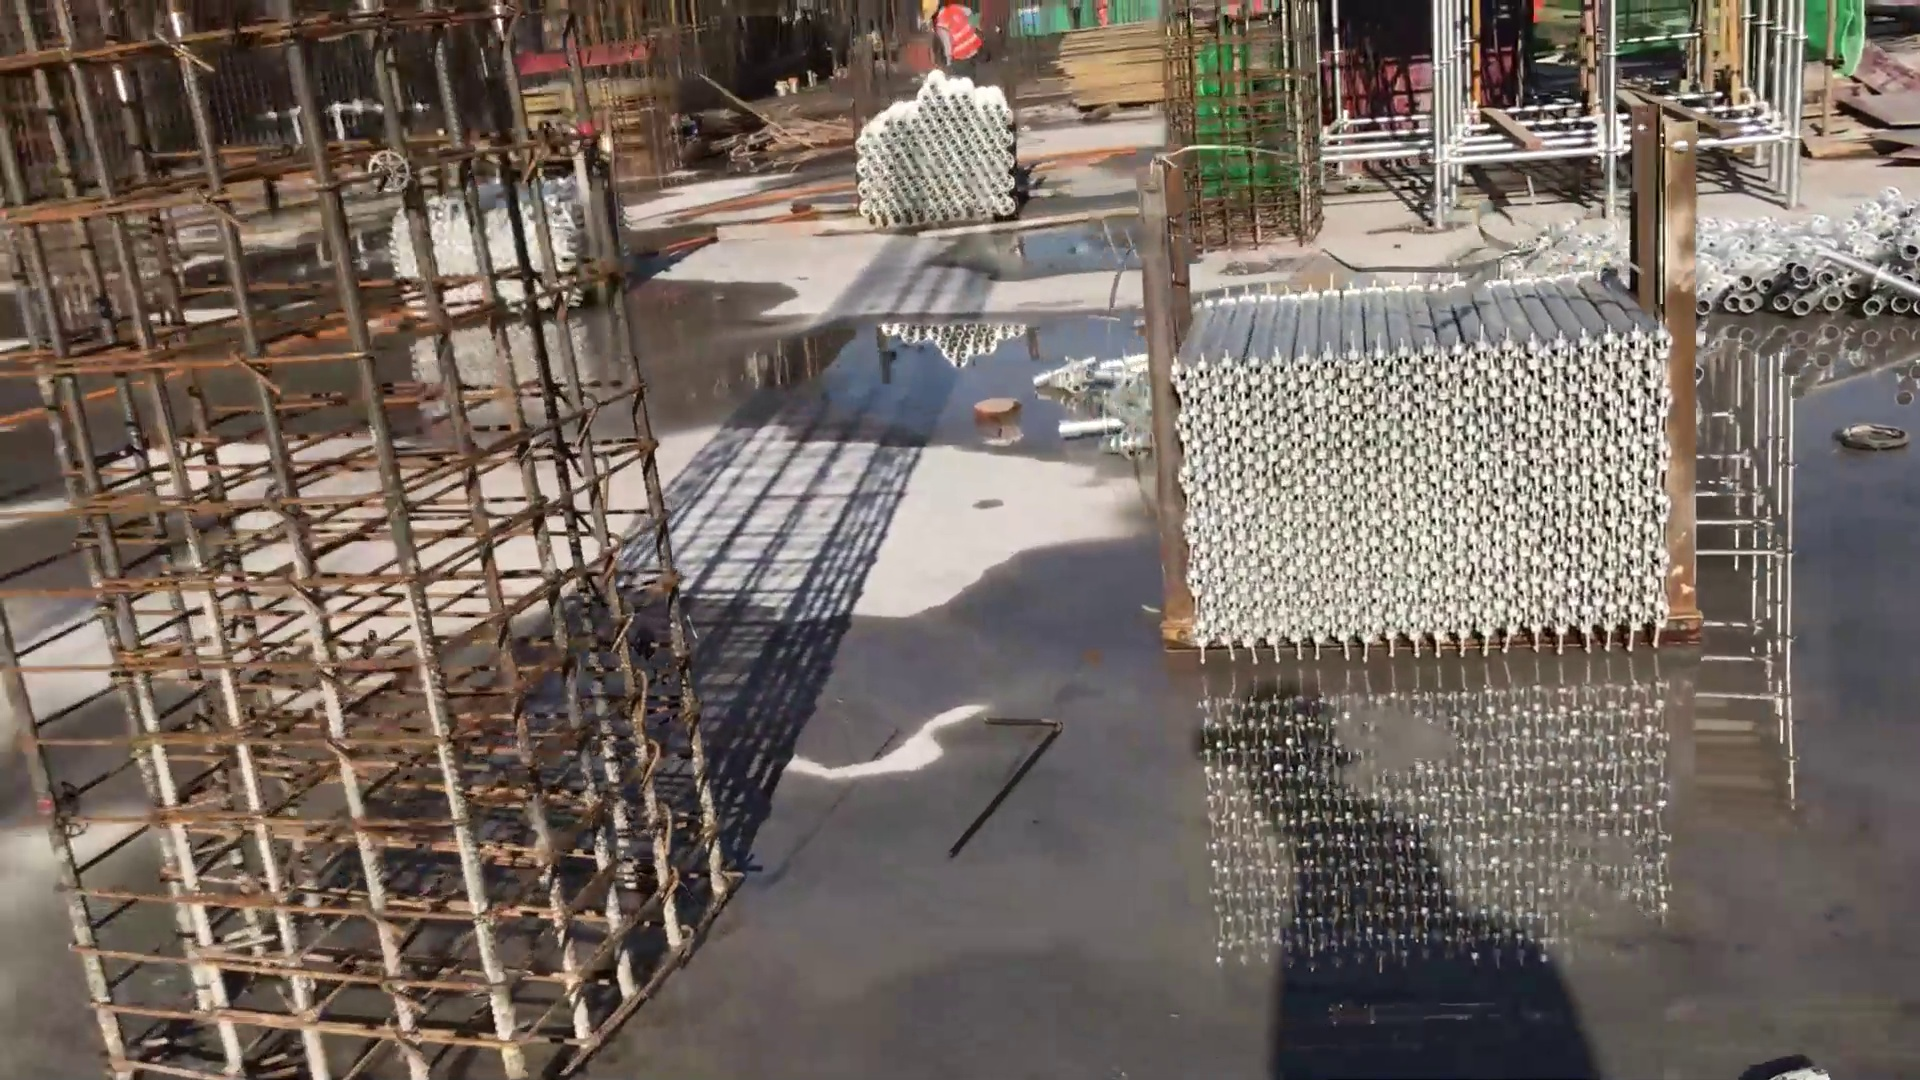board: (1039, 22, 1174, 120)
helmet: (915, 1, 947, 30)
person: (914, 1, 977, 73)
scaffold: (1165, 248, 1713, 685), (1703, 172, 1917, 342), (840, 56, 1027, 236)
